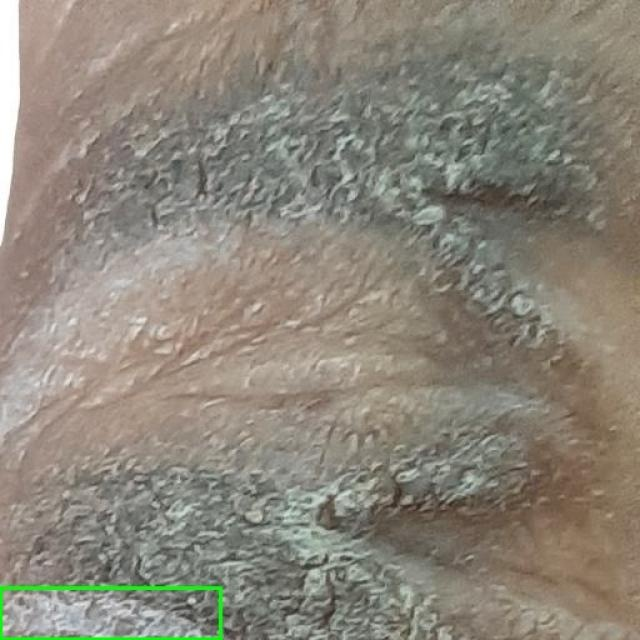Contact Dermatitis: (0, 588, 220, 639)
